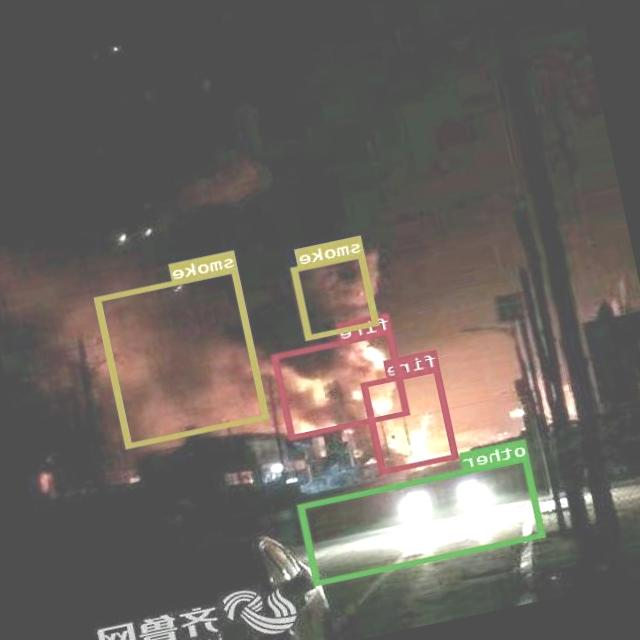fire: (272, 328, 410, 438), (362, 366, 459, 472)
smoke: (94, 265, 270, 447), (291, 250, 380, 339)
